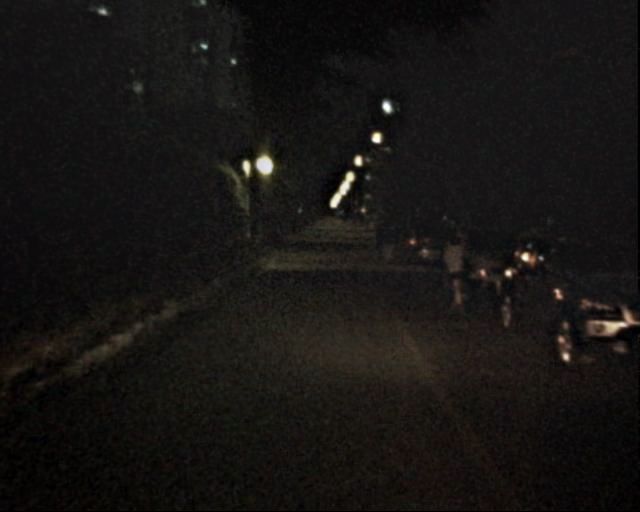person: (434, 231, 469, 317), (377, 218, 396, 265), (367, 224, 382, 260)
